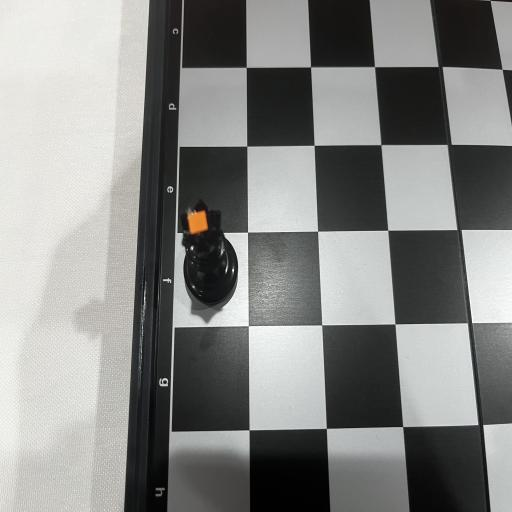Black queen: (178, 199, 238, 307)
